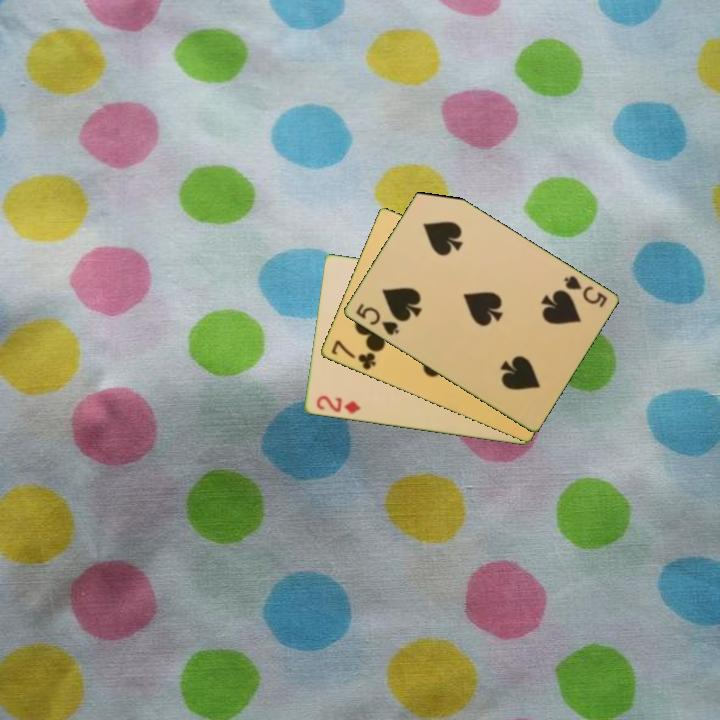2d: (312, 392, 363, 417)
5s: (560, 272, 610, 311), (352, 300, 402, 338)
7c: (327, 337, 378, 373)
